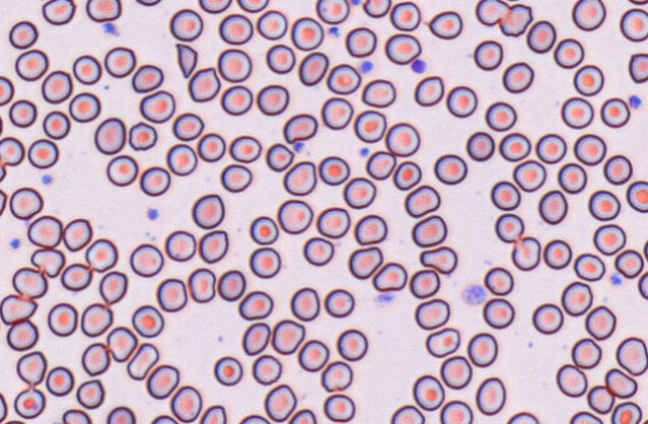PLT: (463, 284, 487, 307), (374, 291, 399, 308), (145, 206, 162, 222), (628, 95, 645, 111), (609, 273, 624, 290), (361, 59, 376, 75), (292, 140, 308, 155), (99, 22, 116, 36), (325, 26, 342, 40), (411, 59, 426, 74), (41, 171, 54, 185), (10, 237, 23, 251), (359, 146, 371, 158), (349, 0, 363, 8)
RBC: (282, 160, 317, 196), (277, 199, 313, 234), (126, 342, 159, 380), (263, 383, 296, 421), (615, 336, 647, 375), (145, 363, 179, 399), (139, 89, 175, 123), (169, 385, 202, 422), (475, 376, 506, 415), (271, 319, 305, 354), (385, 122, 420, 156), (84, 237, 118, 272), (27, 214, 62, 248), (404, 184, 440, 217), (347, 246, 383, 279), (187, 66, 220, 102), (411, 214, 447, 247), (0, 293, 37, 325), (412, 374, 444, 411), (94, 117, 126, 154), (217, 48, 251, 82), (129, 243, 163, 277), (80, 302, 113, 337), (191, 193, 224, 228), (414, 297, 450, 329), (106, 325, 137, 362), (384, 33, 421, 64), (498, 3, 532, 36), (439, 355, 472, 389), (512, 159, 546, 192), (290, 16, 323, 50), (131, 304, 164, 338), (169, 8, 203, 41), (9, 186, 43, 219), (584, 305, 616, 340), (12, 266, 47, 298), (561, 280, 592, 316), (419, 245, 457, 274), (353, 109, 386, 142), (320, 96, 353, 129), (560, 96, 593, 129), (555, 363, 587, 397), (342, 176, 376, 208), (316, 206, 350, 238), (353, 213, 387, 245), (155, 278, 187, 312), (510, 235, 541, 270), (571, 0, 606, 31), (326, 63, 361, 94), (289, 286, 320, 321), (218, 13, 253, 44), (467, 332, 498, 367), (237, 290, 273, 320), (320, 360, 353, 392), (297, 339, 329, 372), (593, 223, 626, 255), (15, 49, 48, 81), (248, 246, 281, 278), (573, 133, 606, 165), (47, 302, 78, 336), (41, 69, 72, 103), (433, 153, 467, 184), (16, 350, 46, 385), (425, 327, 460, 357), (30, 247, 65, 277), (372, 261, 407, 291), (298, 51, 328, 86), (13, 387, 45, 419), (6, 319, 38, 351), (531, 302, 563, 334), (482, 297, 514, 329), (502, 61, 534, 93), (106, 154, 138, 186), (588, 189, 620, 221), (164, 229, 196, 261), (604, 367, 637, 398), (336, 328, 367, 361), (68, 91, 101, 122), (103, 46, 136, 77), (256, 84, 289, 115), (526, 19, 556, 53), (62, 217, 92, 251), (198, 229, 228, 263), (538, 189, 567, 224), (187, 267, 216, 302), (573, 64, 604, 96), (166, 143, 197, 175), (446, 85, 477, 117), (220, 85, 253, 115), (81, 342, 110, 376), (241, 321, 270, 355), (98, 270, 127, 304), (428, 10, 462, 39), (361, 78, 395, 107), (251, 354, 282, 385), (413, 75, 444, 106), (345, 26, 376, 57), (553, 37, 584, 68), (571, 337, 601, 369), (302, 236, 334, 266), (389, 1, 421, 31), (498, 132, 531, 161), (619, 7, 647, 41), (409, 268, 440, 298), (365, 150, 396, 180), (557, 162, 587, 193), (256, 9, 287, 39), (265, 43, 295, 74), (318, 155, 349, 185), (535, 133, 566, 163), (473, 39, 503, 70), (27, 138, 58, 168), (139, 166, 170, 196), (485, 101, 516, 131), (323, 393, 355, 422), (60, 262, 92, 291), (573, 252, 605, 281), (172, 112, 204, 141), (217, 269, 246, 301), (220, 163, 252, 192), (474, 0, 509, 26), (494, 212, 524, 242), (614, 248, 644, 278), (490, 180, 520, 210), (600, 97, 630, 127), (45, 365, 74, 396), (213, 355, 242, 386), (543, 238, 572, 269), (603, 154, 632, 185), (131, 64, 163, 92), (229, 135, 261, 163), (392, 160, 421, 190), (483, 266, 513, 295), (324, 288, 354, 317), (8, 20, 38, 49), (196, 132, 225, 162), (72, 54, 101, 84), (249, 215, 279, 244), (76, 378, 104, 409), (41, 0, 75, 25), (265, 142, 294, 171), (128, 121, 157, 150), (466, 131, 494, 161), (439, 399, 473, 423), (315, 0, 349, 24), (586, 385, 614, 414), (42, 110, 70, 139), (8, 99, 37, 127), (85, 0, 121, 22), (0, 136, 25, 166), (610, 401, 642, 423), (626, 180, 647, 212), (390, 404, 425, 423), (628, 52, 647, 83), (106, 405, 135, 423), (199, 404, 226, 423), (362, 0, 391, 17), (569, 410, 603, 423), (287, 408, 316, 423), (62, 408, 91, 423), (198, 0, 231, 13), (0, 75, 14, 105), (506, 411, 539, 423), (237, 0, 268, 12), (637, 270, 647, 299), (238, 414, 270, 423), (150, 414, 178, 423), (0, 391, 8, 422), (0, 188, 7, 216), (134, 0, 161, 6), (643, 238, 648, 261), (0, 164, 6, 182), (627, 0, 648, 5), (4, 419, 25, 423), (0, 113, 3, 136), (0, 225, 2, 250)
Schistocyte: (282, 114, 319, 142), (175, 42, 198, 79)
